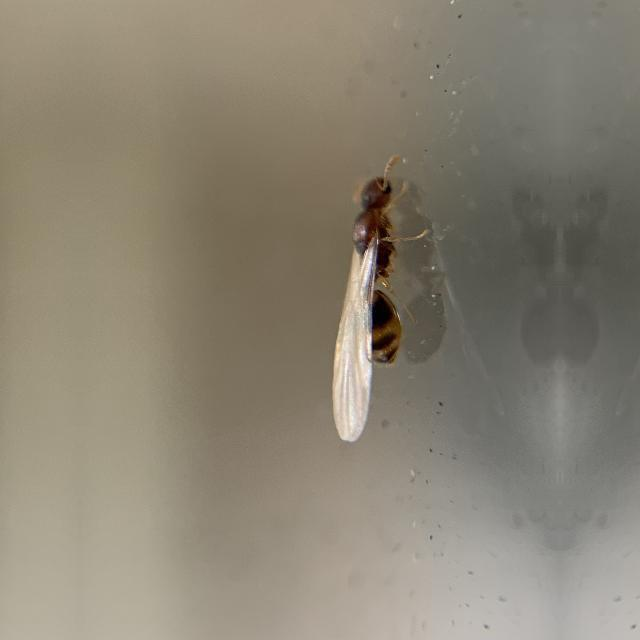Temnothorax: (306, 172, 449, 416)
